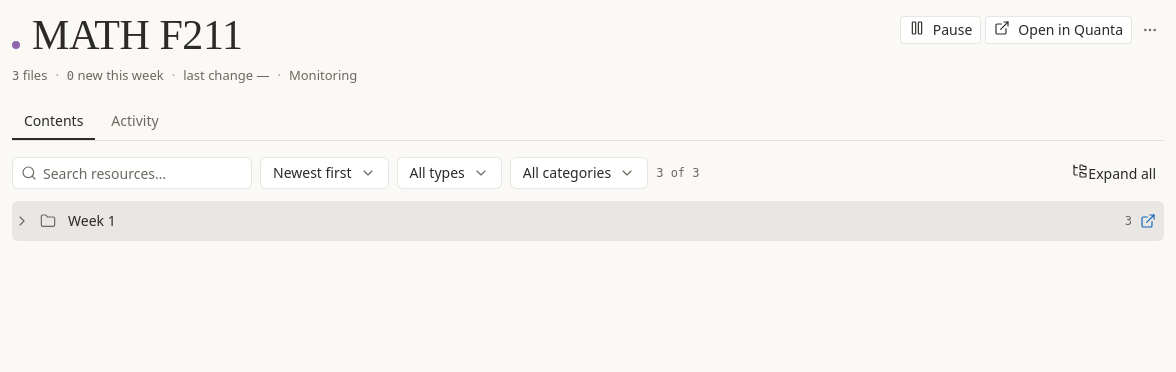
Test: CoursePage tree › offers Preview only for previewable resources and shows restored status
Click the button named "Expand Week 1".
click(22, 221)  # box [12,211,32,231]
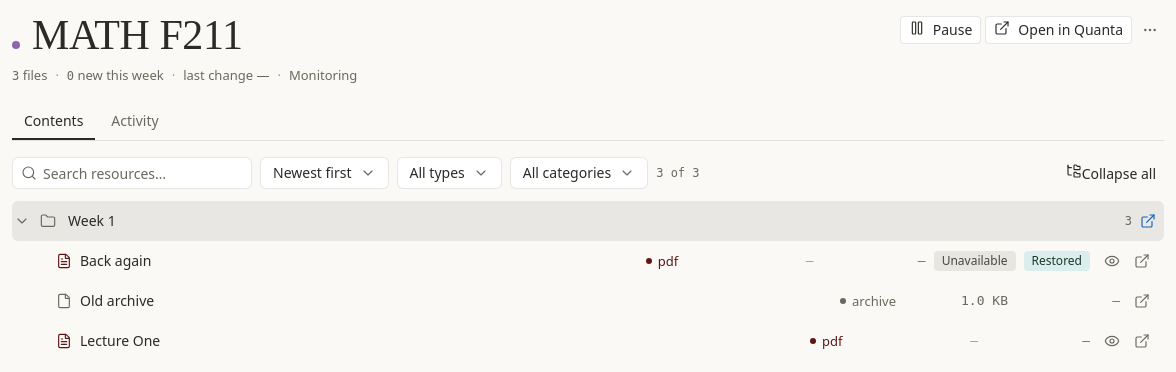
Check: the button named "Preview Lecture One" is shown, box [1098,327,1126,355]
Check: the text "Restored" is shown, box [1024,251,1090,271]
